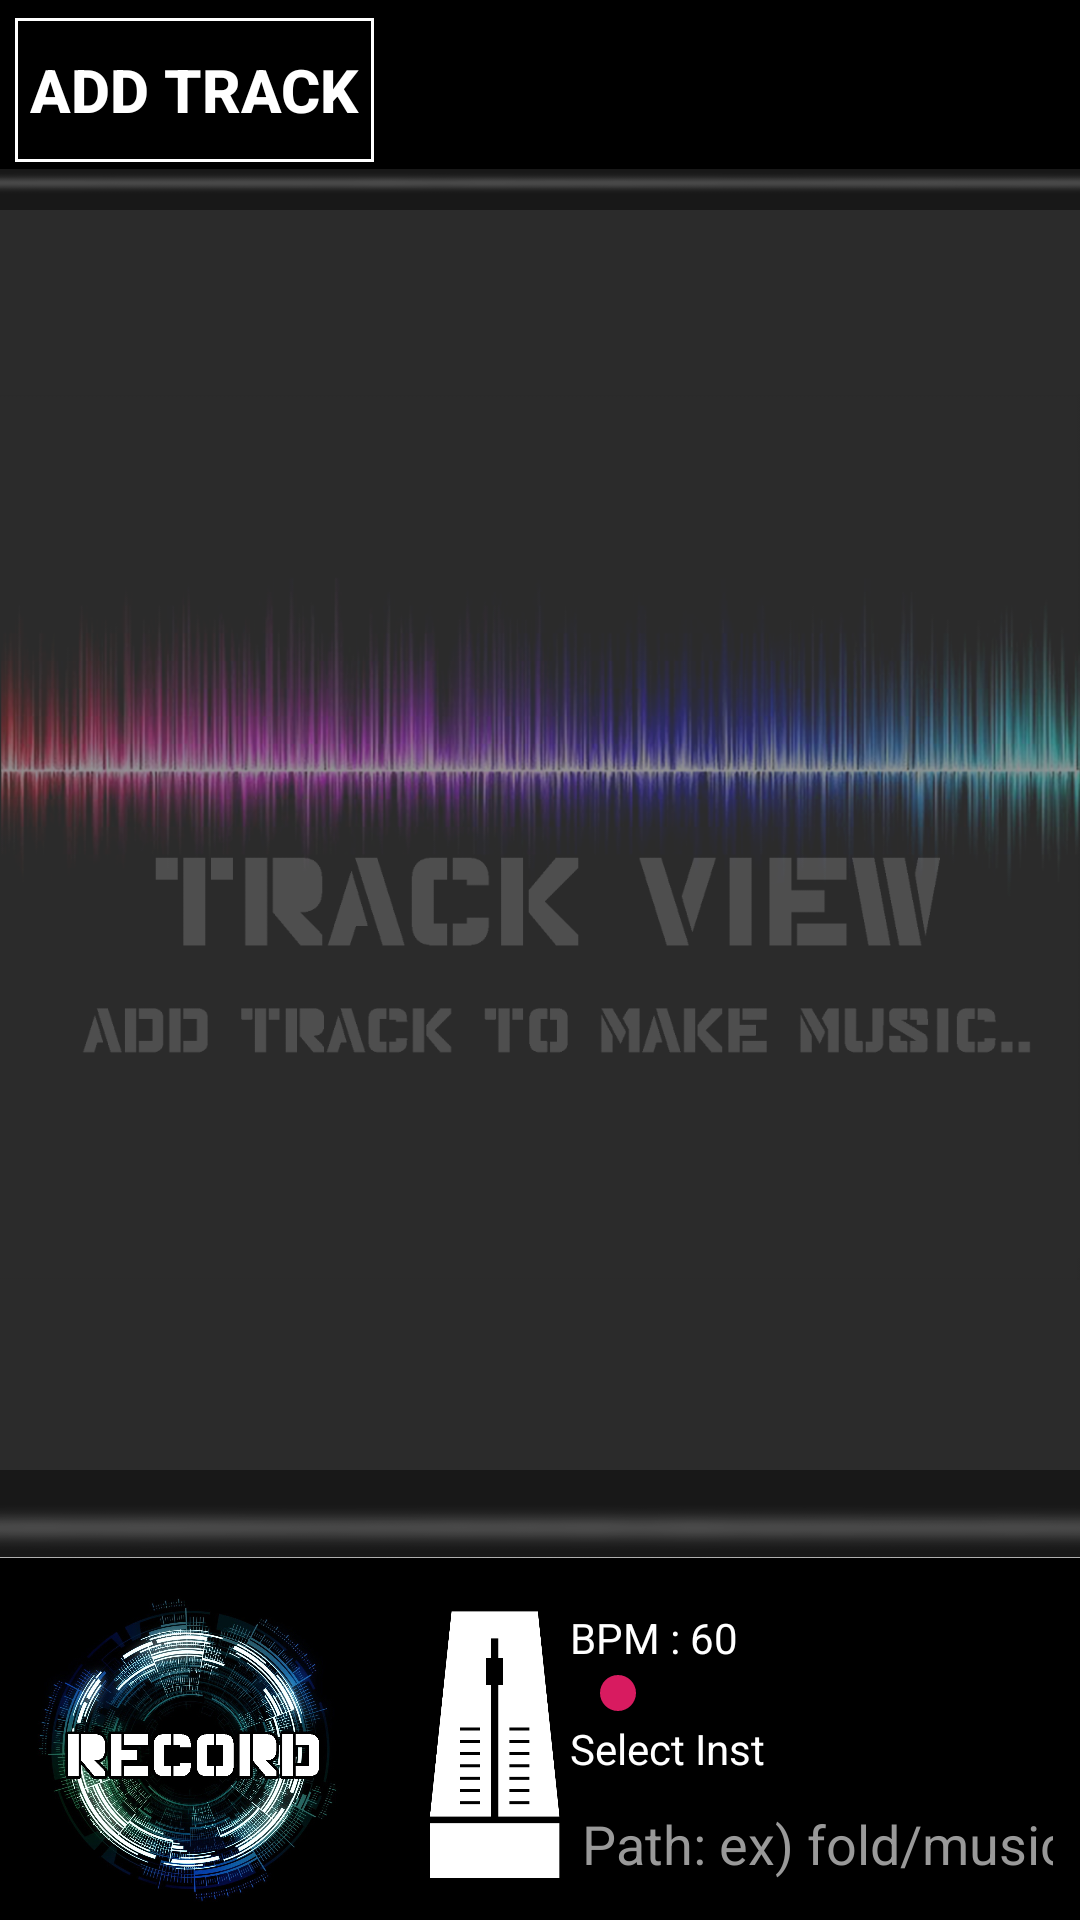

Icon bounding boxes for this 1080px x 1920px phone screenshot, format (x1, y1, x2, y2):
metronome: (430, 1611, 560, 1878)
